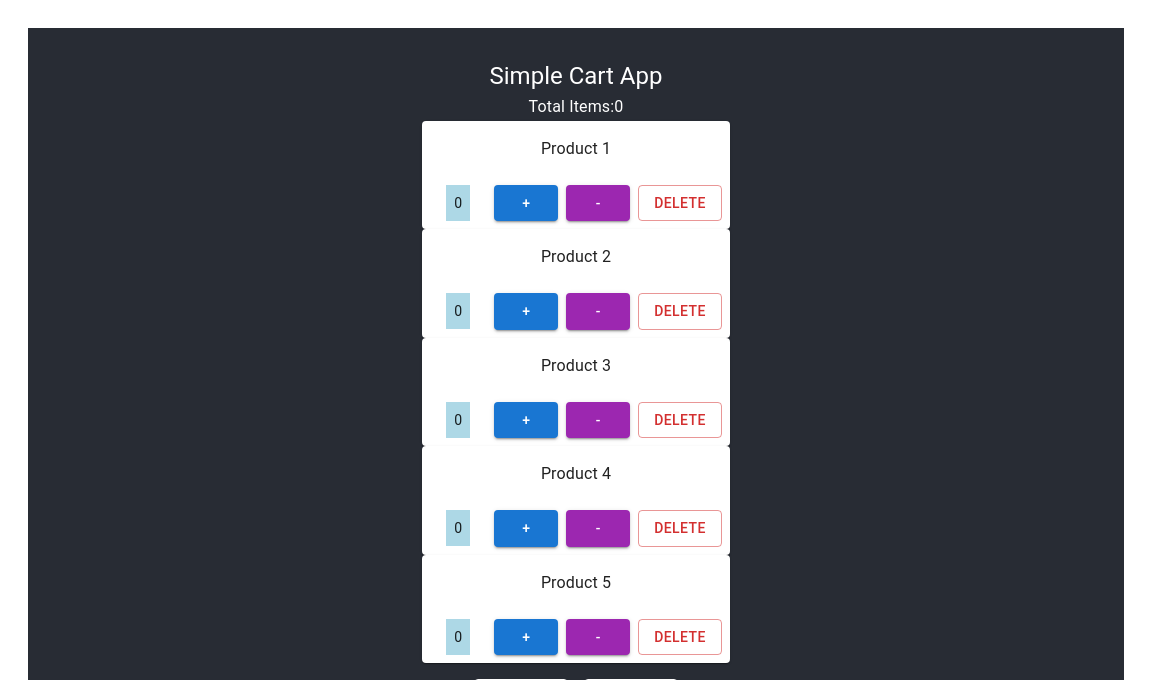
Test: Cart component › removes an item from the cart without adding any items
Click the button "-" below "Product 1" at (598, 203), box 566,184 -> 630,221
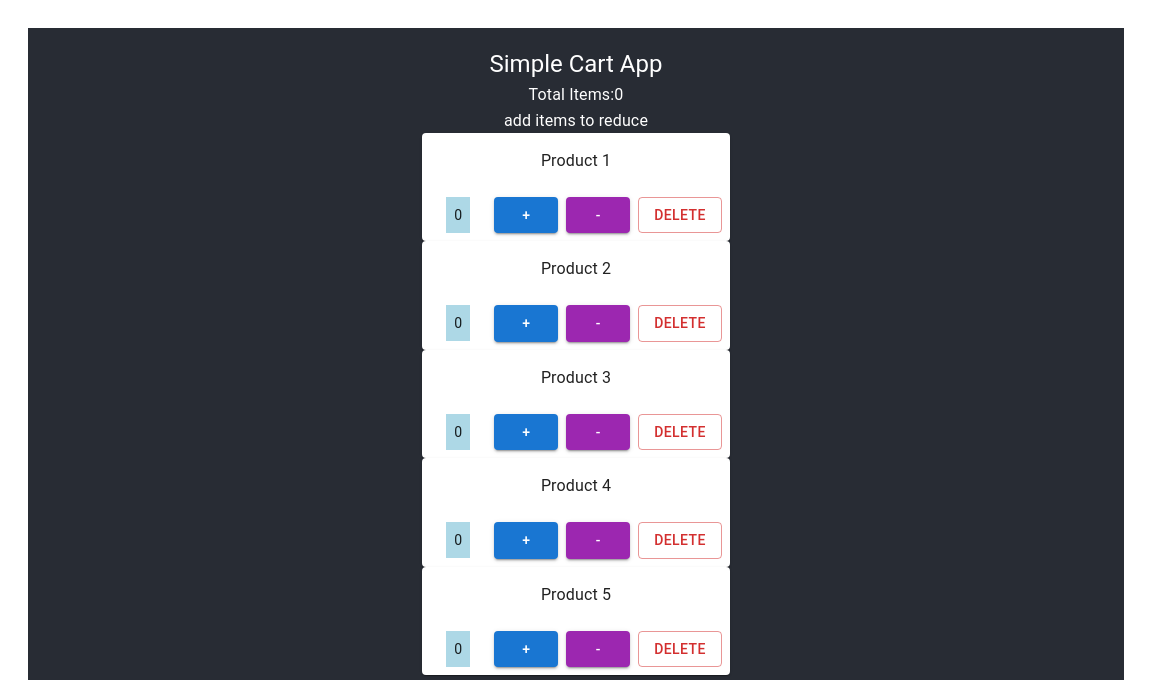
Check: the heading with test id "total-items" reads "Total Items:0", box 528,80 -> 623,108
Check: the text with test id "warning" reads "add items to reduce", box 504,110 -> 648,130
